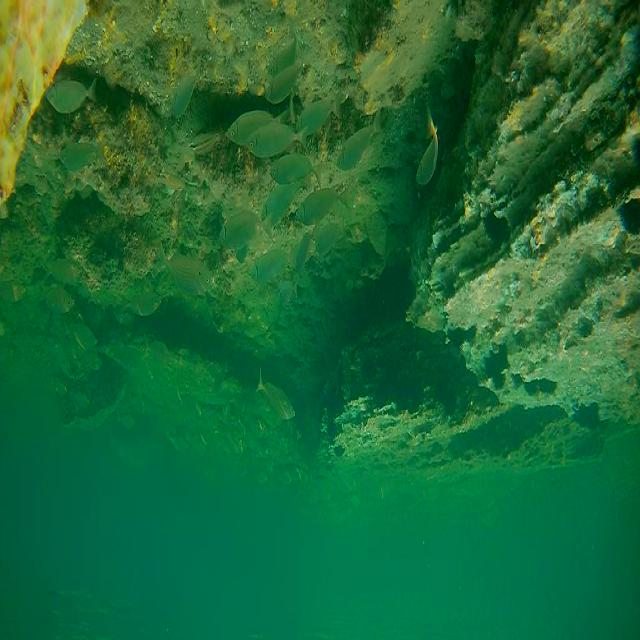Sokar Baligi: (148, 235, 214, 305), (406, 101, 446, 195), (241, 116, 315, 166), (53, 128, 114, 180), (244, 237, 294, 298), (168, 46, 202, 130), (44, 72, 102, 121)
